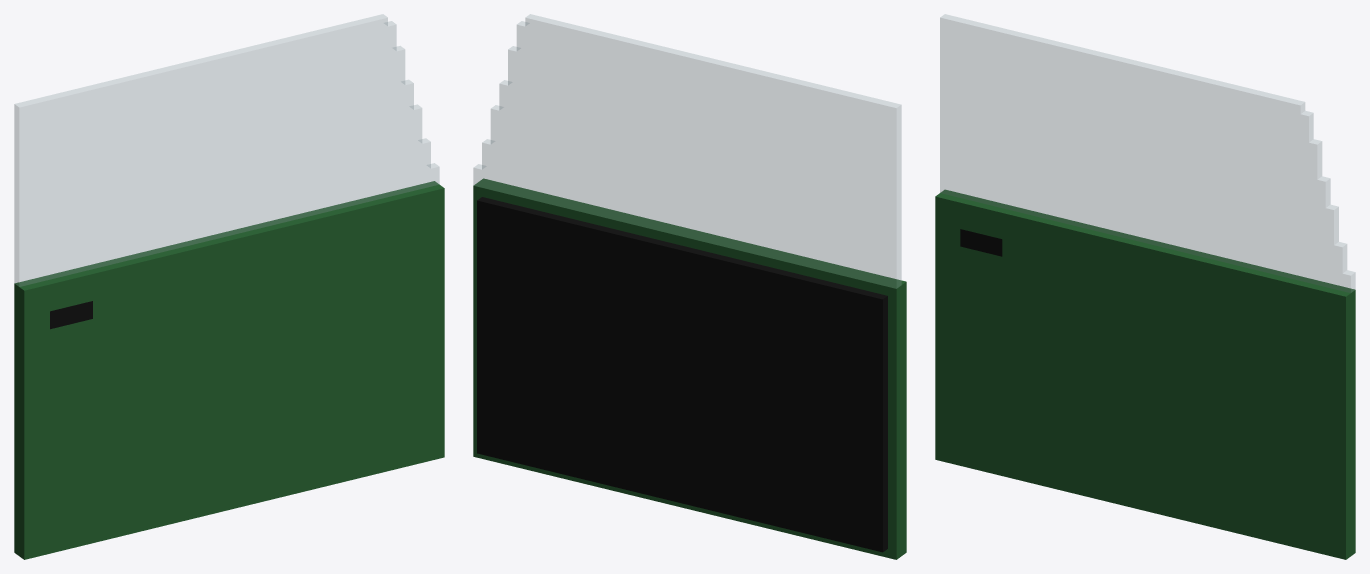
The model's file is refuse_truck_door.glb.
3 views of the same model, side by side, from view 1: azimuth 30°, elevation 25°; view 2: azimuth 150°, elevation 25°; view 3: azimuth 330°, elevation 25° (orthographic). The views are drawn at different scales.
Visible parts, largest first — view 1: body:compound; view 2: body:compound; view 3: body:compound.
Part boxes in pixels (x1=…): body:compound: x1=14, y1=14, x2=444, y2=559; body:compound: x1=473, y1=14, x2=906, y2=559; body:compound: x1=935, y1=14, x2=1355, y2=559.
Bounding box in the file's own units: 1.53 × 1.56 × 0.0938.
